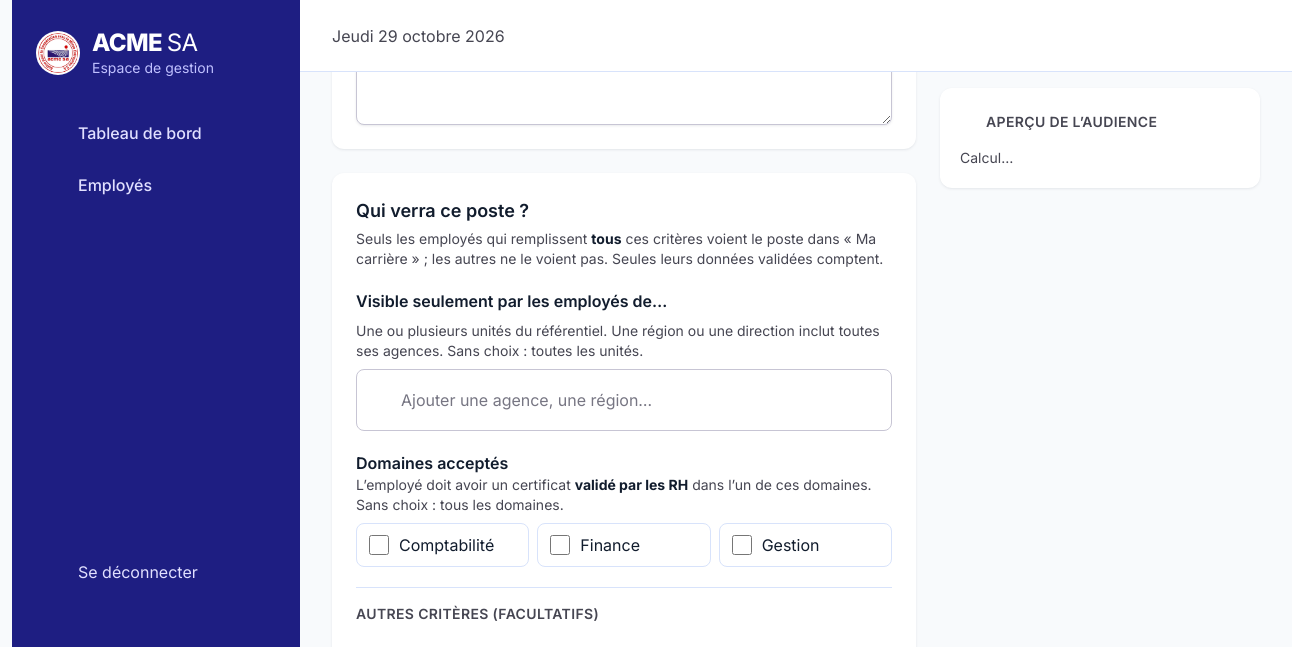
Scenario: US-115 — qui verra ce poste › CA-04 : l’aperçu dit combien d’employés verront le poste et ce qui écarte les autres
(page scrolled)
Type "pét" into the dropdown labelled "Visible seulement par les employés de…" at coordinates (638, 400), box [401,378,875,422]
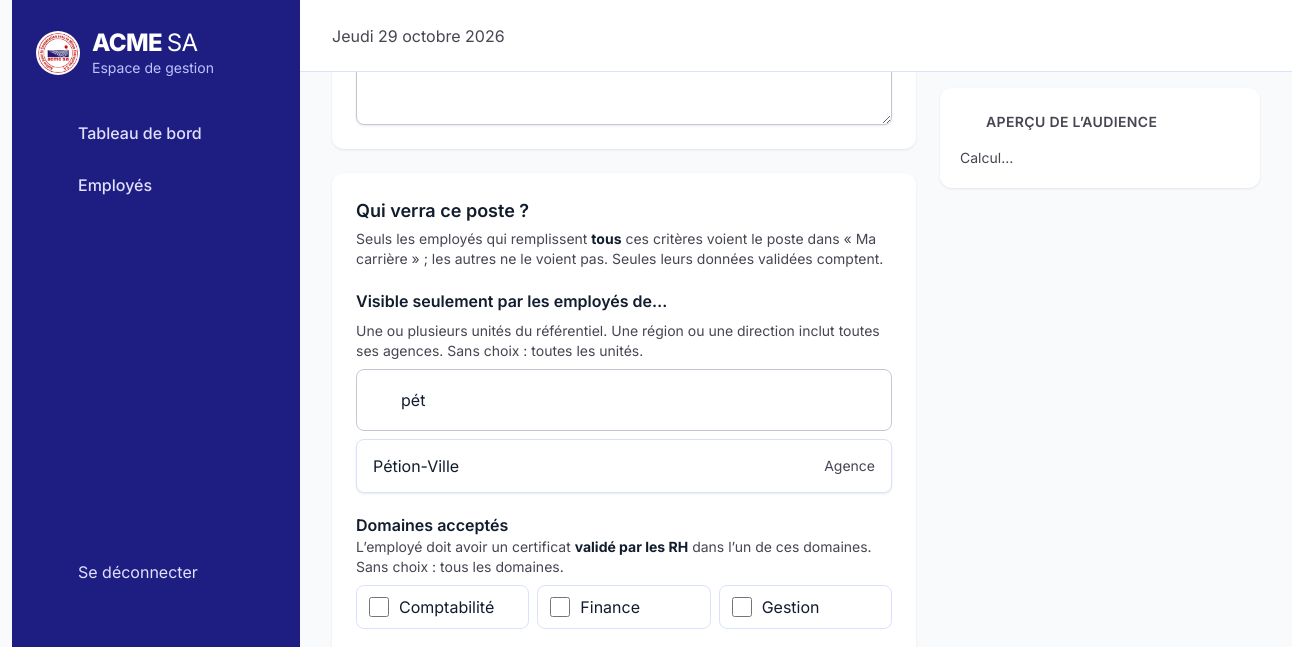
Click the option "Pétion-Ville Agence" at coordinates (416, 466), box [361,444,887,488]
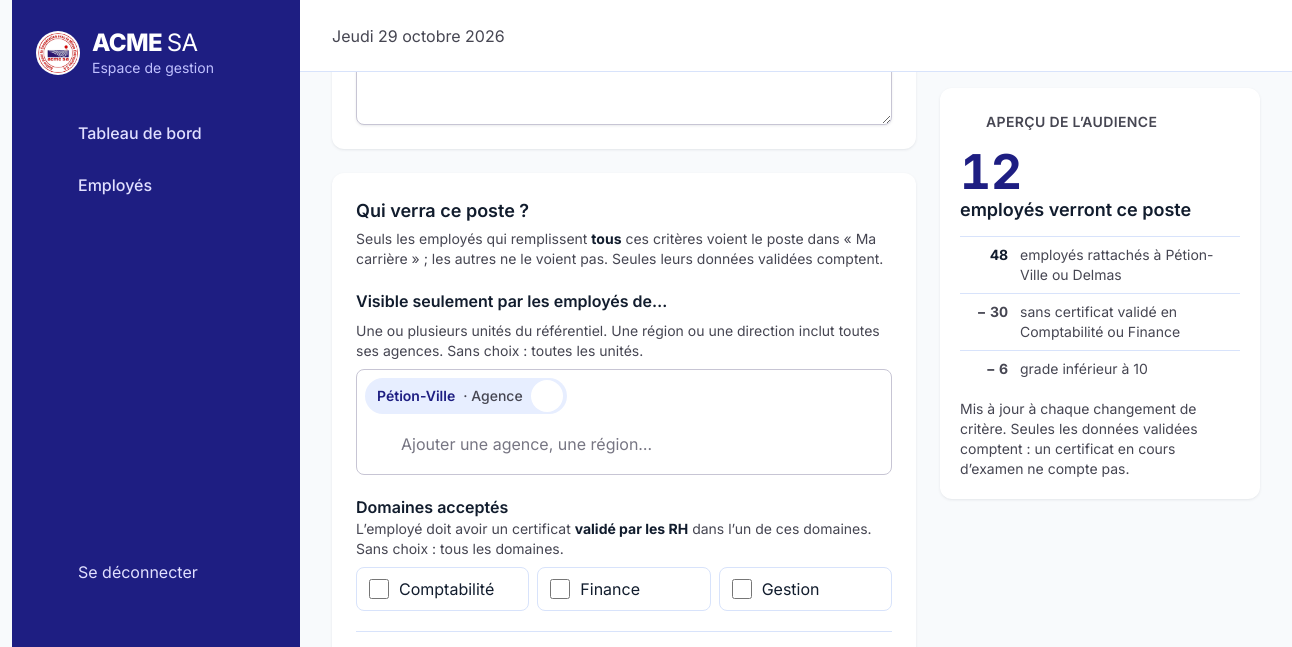
Result: the text "12" is shown at [960,148,1022,196]
Result: the element "Aperçu de l’audience" shows "employés verront ce poste" at [960,199,1191,220]
Result: the element "Aperçu de l’audience" shows "48 employés rattachés à Pétion-Ville ou Delmas" at [940,88,1260,499]
